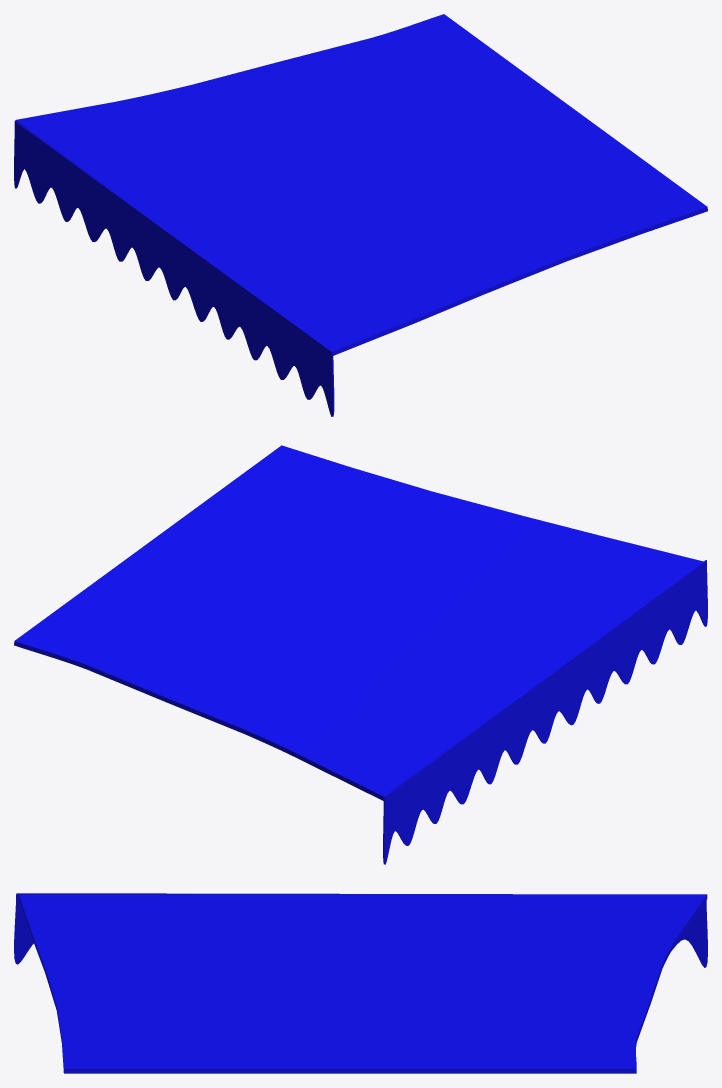
File: MaiChe.fbx
3 views of the same model, one above another, from view 1: azimuth 30°, elevation 25°; view 2: azimuth 150°, elevation 25°; view 3: azimuth 270°, elevation 25° (orthographic). The views are drawn at different scales.
Visible parts, largest first — view 1: Mai che, Rem; view 2: Mai che, Rem; view 3: Mai che, Rem.
Part boxes in pixels (x1,y1,x2,y2): Mai che: (15,14,707,355); Rem: (14,121,334,416); Mai che: (14,445,703,800); Rem: (383,560,707,864); Mai che: (19,894,707,1073); Rem: (14,893,707,967).
Size of the model in its own units: 341 by 82.52 by 474.
